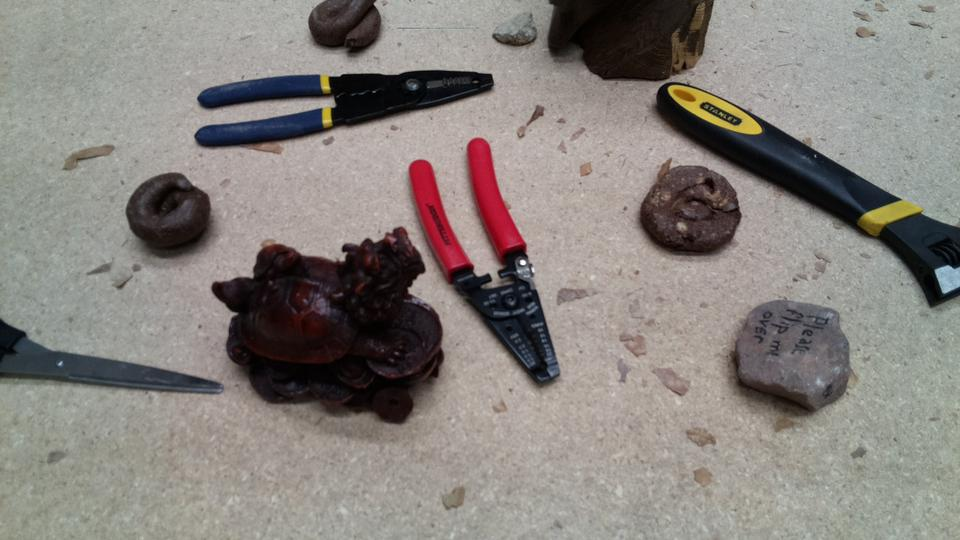poop: (638, 159, 744, 259), (121, 168, 212, 255), (305, 1, 386, 55)
